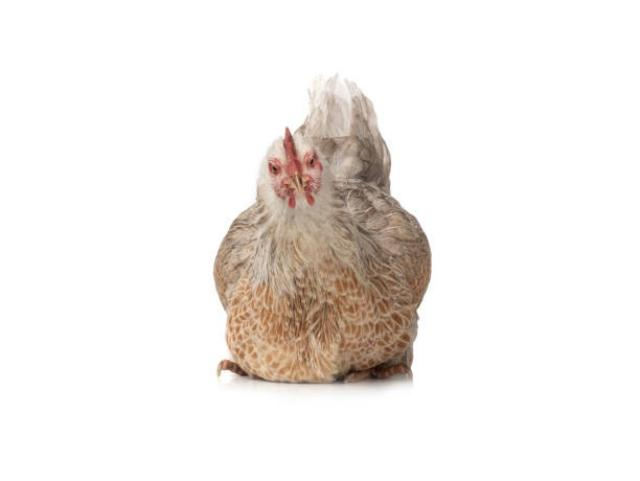Chicken: (211, 71, 432, 385)
